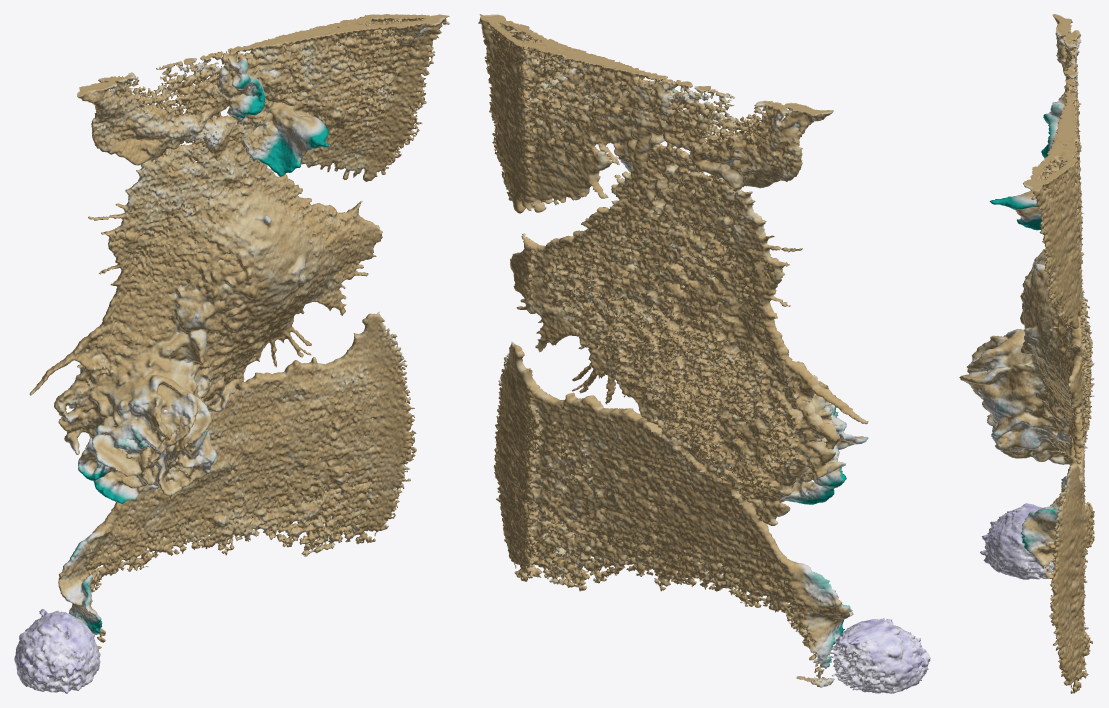
File: Surfaces_12.glb
3 views of the same model, side by side, from view 1: azimuth 30°, elevation 25°; view 2: azimuth 150°, elevation 25°; view 3: azimuth 270°, elevation 25° (orthographic).
Visible parts, largest first — view 1: surface (×2); view 2: surface (×2); view 3: surface (×2).
Boxes of the visible parts, x1,y1,x2,y2 form: surface (×2): (14, 14, 449, 693); surface (×2): (478, 14, 930, 693); surface (×2): (959, 14, 1094, 693).
Size of the model in its own units: 617 by 764 by 166.
